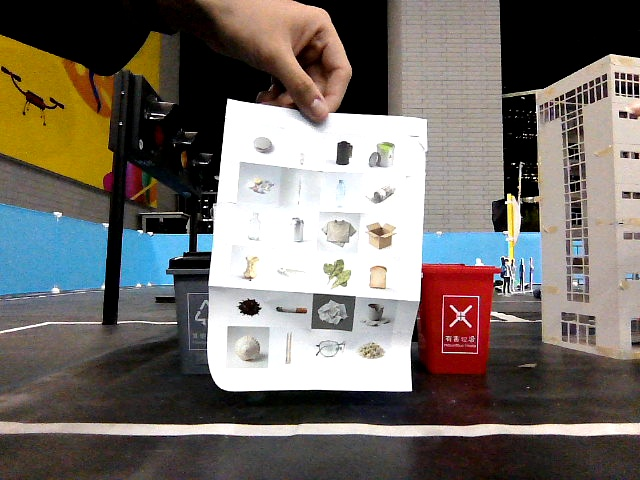food_trash: (230, 247, 271, 289), (360, 258, 400, 298), (316, 255, 356, 293), (353, 332, 391, 366), (277, 251, 312, 286), (230, 292, 267, 322)
hazardous_trash: (279, 172, 325, 212), (282, 131, 324, 170), (365, 134, 406, 173), (242, 125, 283, 163), (239, 167, 280, 205), (324, 134, 362, 171)
other_trash: (227, 327, 269, 368), (270, 326, 309, 368), (269, 294, 311, 330), (356, 298, 397, 334), (311, 330, 352, 366), (315, 297, 352, 324)
recyclable_trash: (360, 214, 403, 255), (319, 213, 361, 254), (364, 135, 406, 174), (279, 209, 317, 247), (239, 206, 277, 242), (361, 178, 402, 207), (329, 173, 359, 206)
